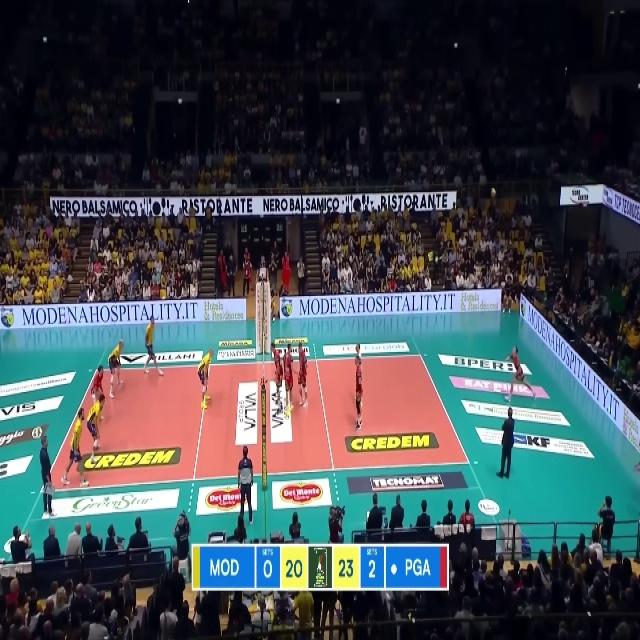volleyball court: (56, 352, 469, 487)
